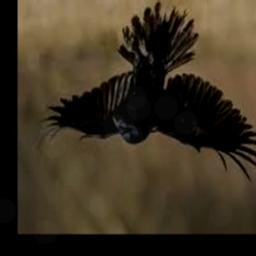Crow: (35, 3, 256, 183)
